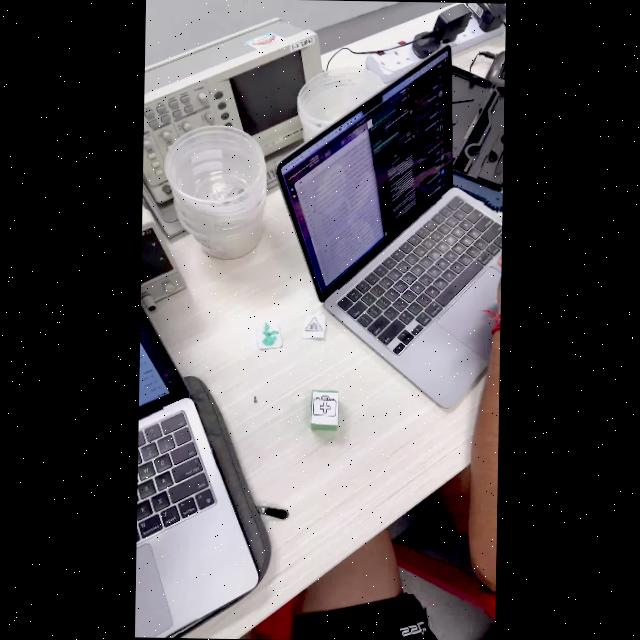Medkit: (313, 394, 337, 418)
